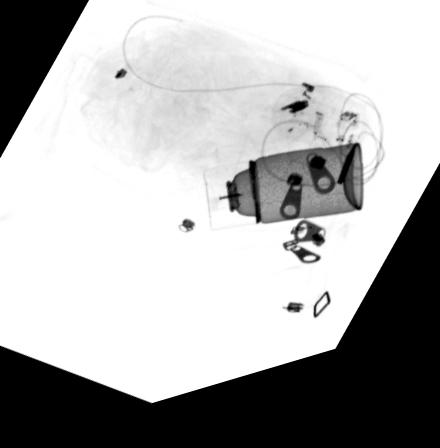Sprayer: (199, 162, 364, 245)
